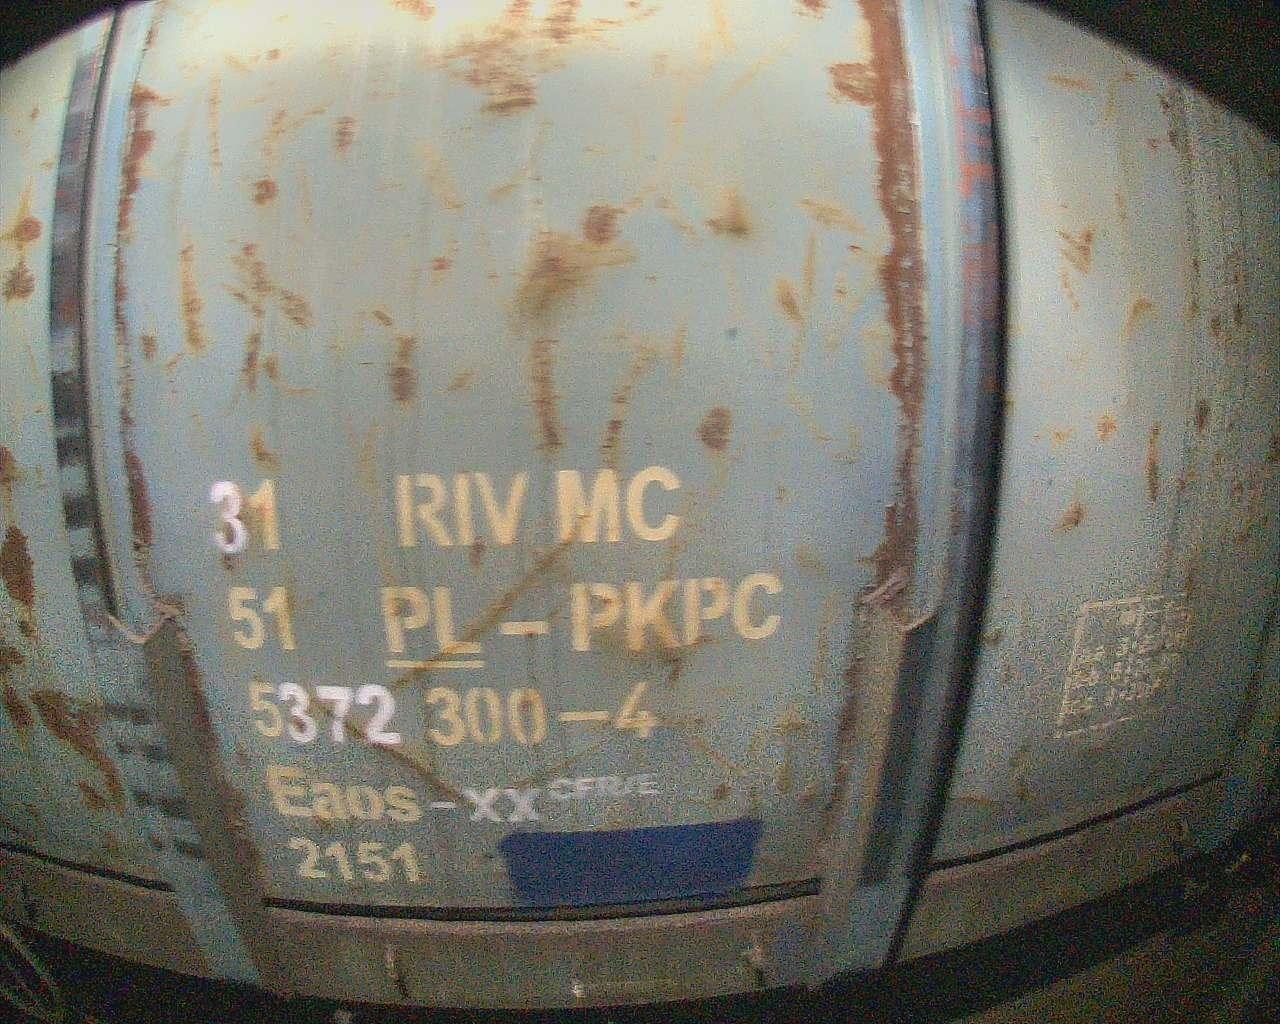UIC: (203, 459, 788, 889)
